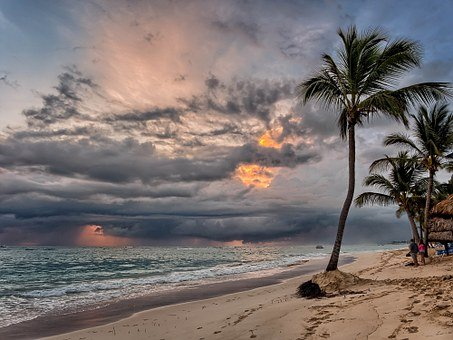beach: (13, 245, 442, 340)
sky: (6, 4, 397, 237)
tree: (315, 35, 404, 284), (370, 109, 452, 261)
